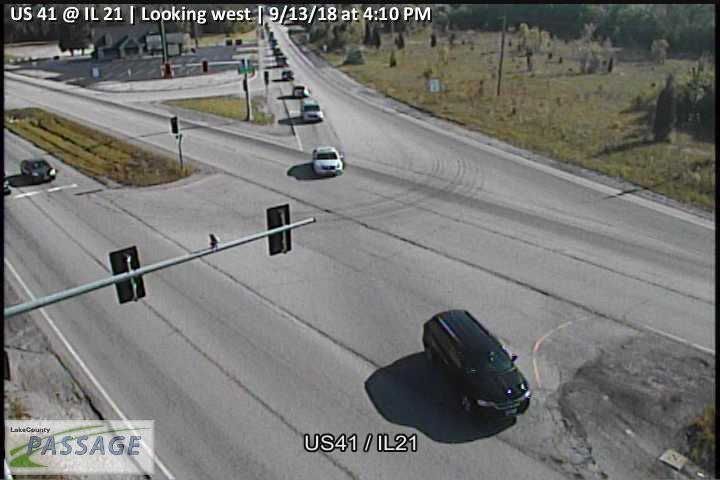SUV: (421, 307, 533, 426), (299, 97, 324, 122)
Sedan: (312, 144, 344, 176), (19, 157, 58, 183), (292, 84, 309, 98), (282, 69, 294, 80)
Truck: (276, 55, 289, 66)
